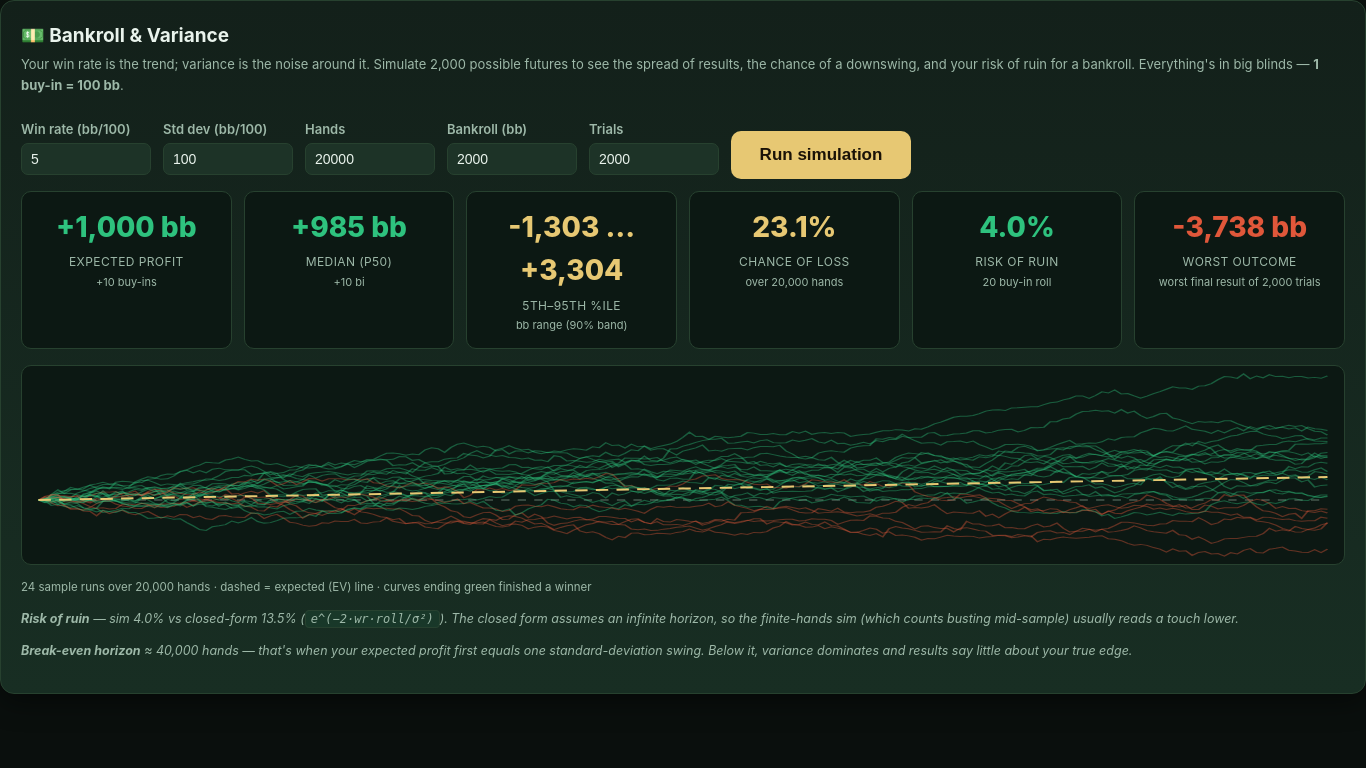
<BankrollSim /> › re-runs and scales the expected profit when hands change
Expected: the text "+1,000 bb" is shown, [56, 210, 197, 244]
Replace the text in the number field showing "20000" with "40000" at {"x": 370, "y": 159}, box [305, 143, 435, 175]
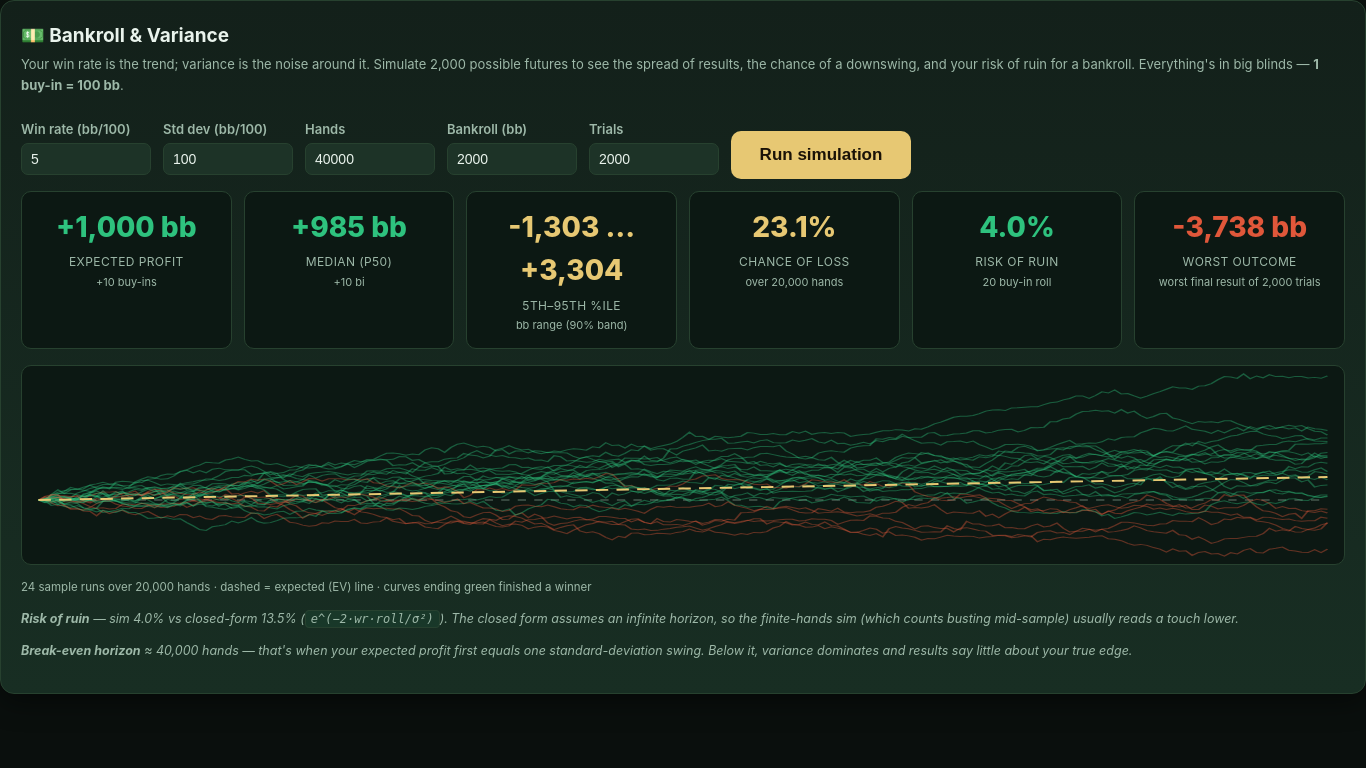
Click the button "Run simulation" at {"x": 821, "y": 155}, box [731, 131, 911, 179]
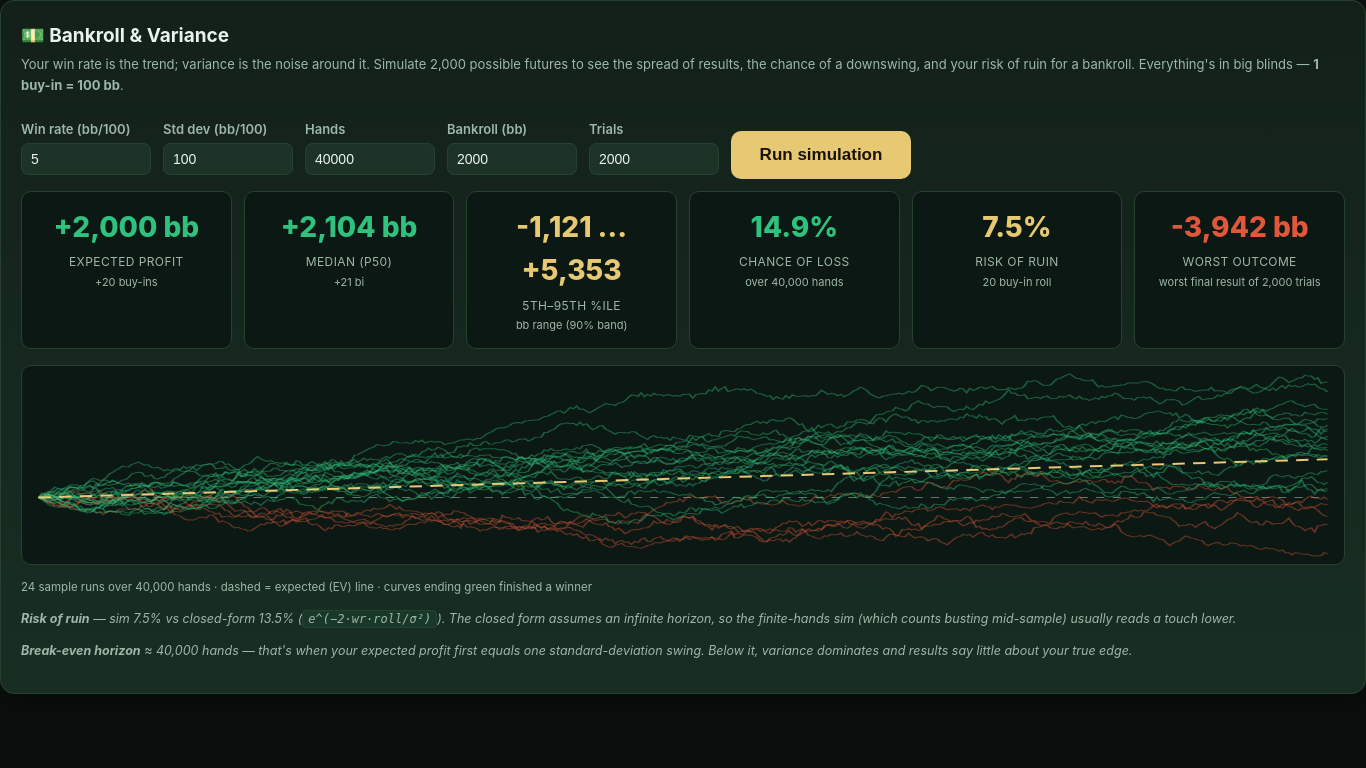
Result: the text "+2,000 bb" is shown at [54, 210, 199, 244]
